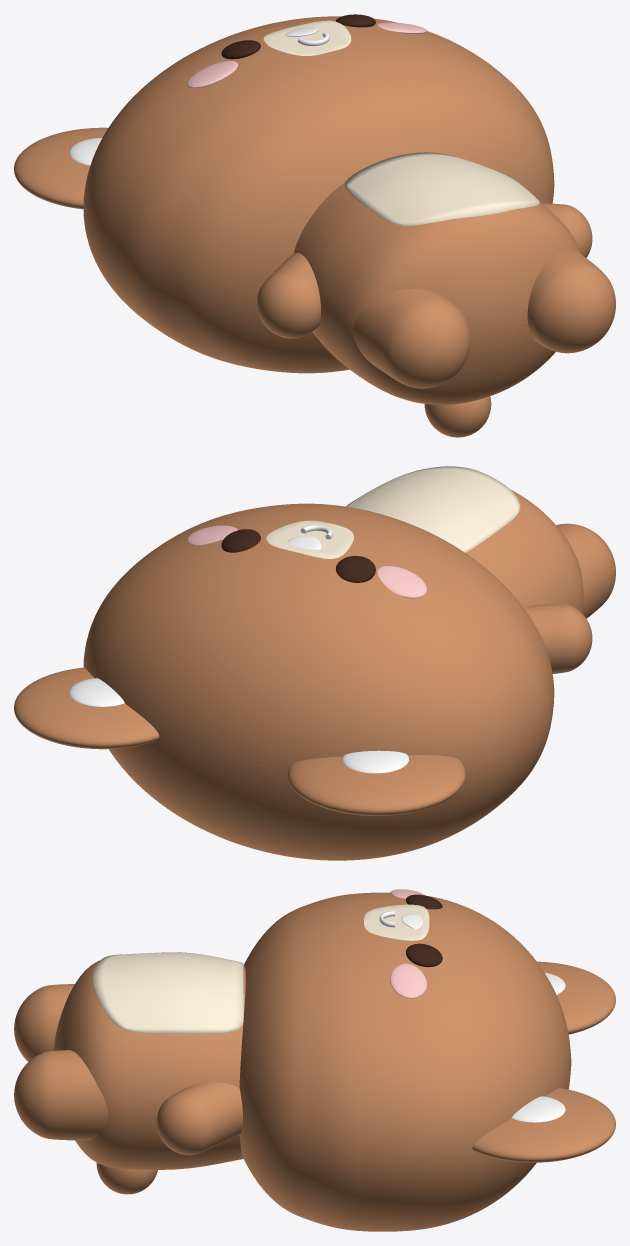
File: bear2.glb
3 views of the same model, one above another, from view 1: azimuth 30°, elevation 25°; view 2: azimuth 150°, elevation 25°; view 3: azimuth 270°, elevation 25° (orthographic). The views are drawn at different scales.
Parts seen in each view (by area): view 1: ras, bdan, sa9in, kerch 2, iden _Material.006_0, wedhnen 1, ba3bous, ras 2, 5doud, 3enin, wedhnen 2; view 2: ras, wedhnen 1, kerch 2, bdan, iden _Material.006_0, sa9in, wedhnen 2, ras 2, 5doud, 3enin; view 3: ras, bdan, kerch 2, sa9in, wedhnen 1, iden _Material.006_0, ras 2, ba3bous, 5doud, wedhnen 2, 3enin.
Part boxes in pixels (x1=…): ras: x1=83, y1=16, x2=554, y2=373; bdan: x1=293, y1=182, x2=580, y2=404; sa9in: x1=353, y1=249, x2=615, y2=388; kerch 2: x1=344, y1=152, x2=539, y2=225; iden _Material.006_0: x1=256, y1=203, x2=592, y2=338; wedhnen 1: x1=14, y1=127, x2=107, y2=209; ba3bous: x1=424, y1=396, x2=491, y2=437; ras 2: x1=263, y1=20, x2=351, y2=55; 5doud: x1=186, y1=22, x2=427, y2=88; 3enin: x1=221, y1=14, x2=375, y2=59; wedhnen 2: x1=69, y1=138, x2=102, y2=165; ras: x1=83, y1=503, x2=554, y2=860; wedhnen 1: x1=14, y1=667, x2=465, y2=815; kerch 2: x1=346, y1=466, x2=520, y2=552; bdan: x1=466, y1=490, x2=583, y2=613; iden _Material.006_0: x1=524, y1=604, x2=592, y2=673; sa9in: x1=556, y1=523, x2=615, y2=618; wedhnen 2: x1=69, y1=678, x2=408, y2=773; ras 2: x1=266, y1=520, x2=353, y2=558; 5doud: x1=186, y1=525, x2=427, y2=598; 3enin: x1=221, y1=529, x2=375, y2=582; ras: x1=239, y1=892, x2=571, y2=1231; bdan: x1=53, y1=960, x2=245, y2=1169; kerch 2: x1=92, y1=952, x2=243, y2=1033; sa9in: x1=14, y1=984, x2=108, y2=1140; wedhnen 1: x1=472, y1=961, x2=615, y2=1162; iden _Material.006_0: x1=156, y1=1082, x2=242, y2=1155; ras 2: x1=364, y1=904, x2=429, y2=940; ba3bous: x1=96, y1=1163, x2=157, y2=1194; 5doud: x1=390, y1=889, x2=426, y2=998; wedhnen 2: x1=512, y1=972, x2=565, y2=1122; 3enin: x1=406, y1=894, x2=442, y2=967.
Bounding box in the file's own units: 4.69 × 3.21 × 6.14.
